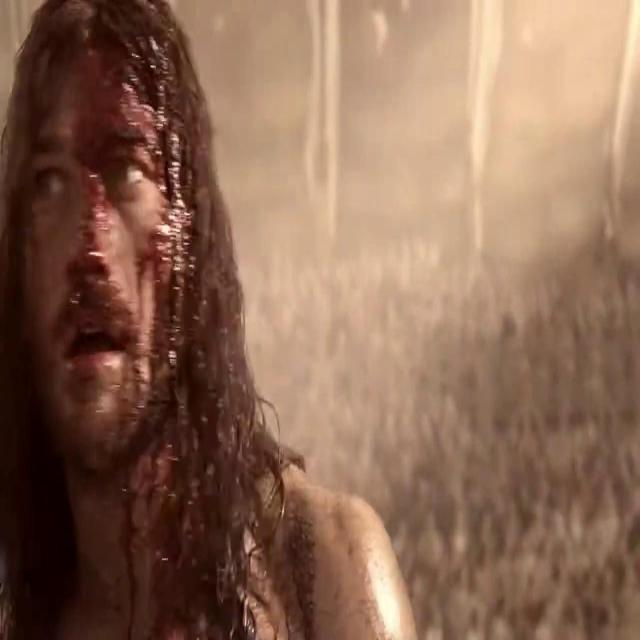flood: (76, 22, 176, 215)
